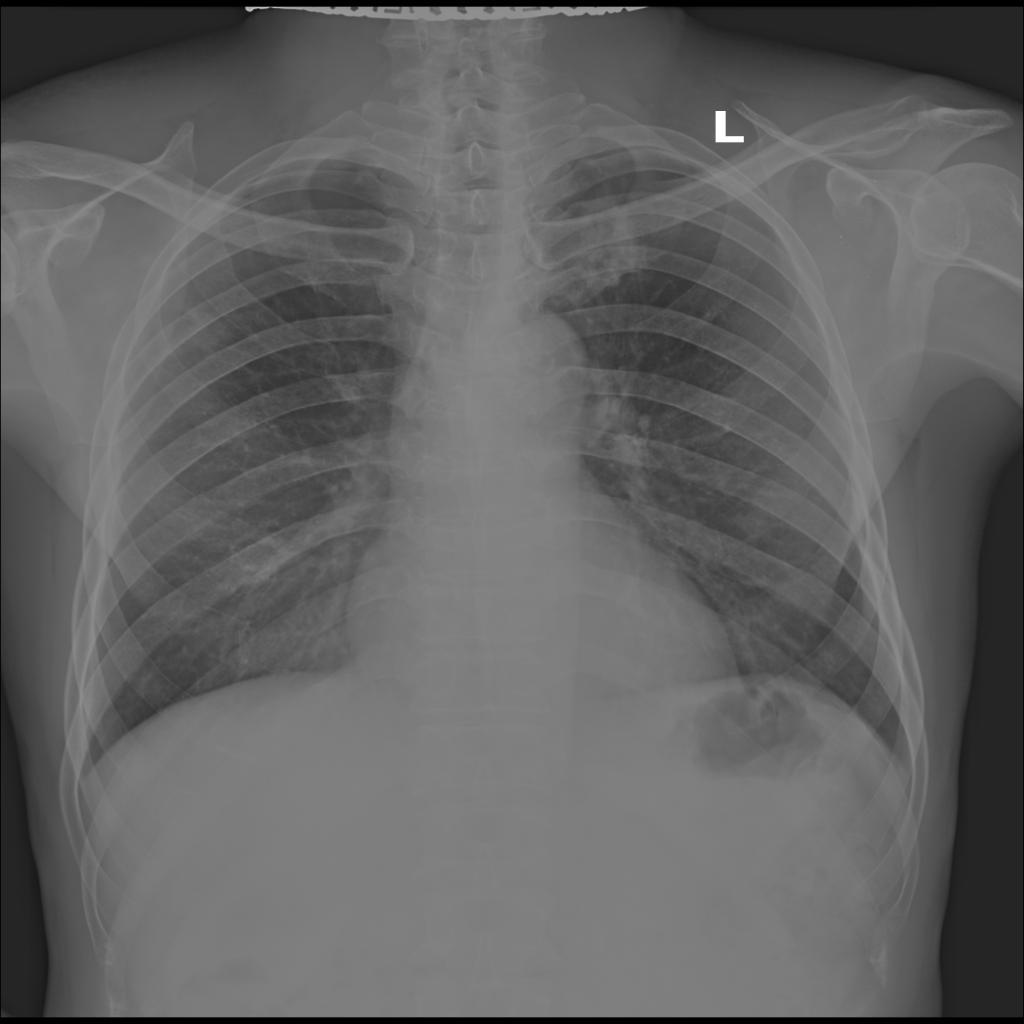Nodule: (183, 314, 226, 348)
